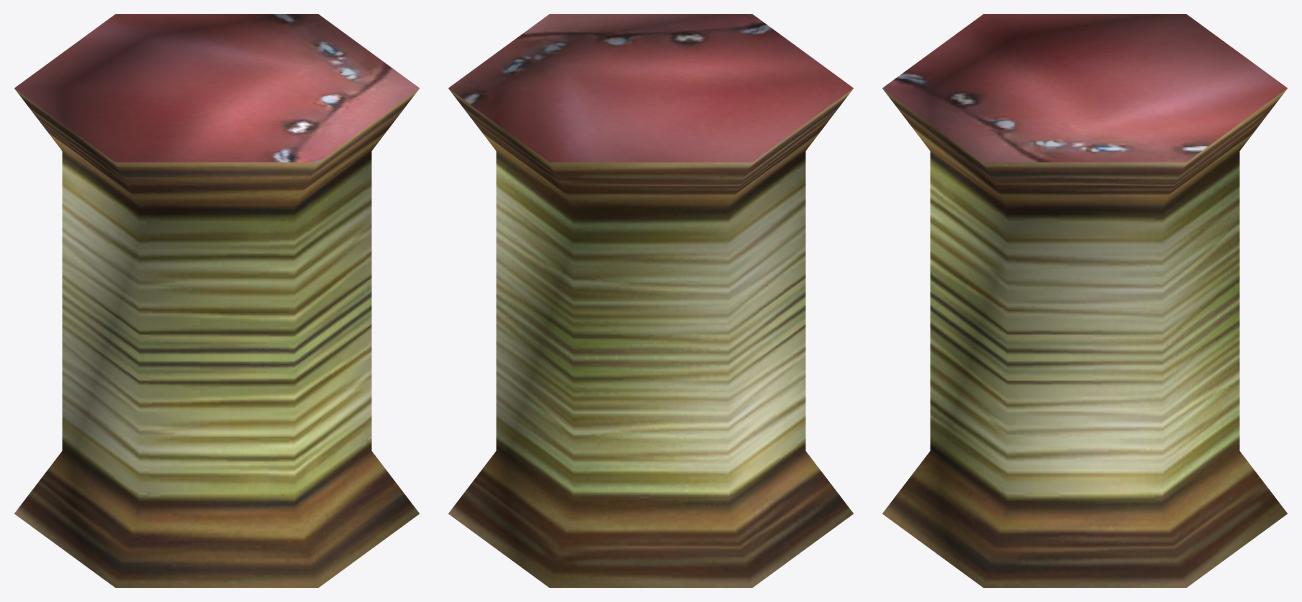
Rendered from clothspoolyellow.obj.
The picture shows the model from 3 angles, left to right: view 1: azimuth 30°, elevation 25°; view 2: azimuth 150°, elevation 25°; view 3: azimuth 270°, elevation 25°; orthographic projection.
Parts seen in each view (by area): view 1: clothspoolyellow; view 2: clothspoolyellow; view 3: clothspoolyellow.
Part boxes in pixels (left/top/right/bottom): clothspoolyellow: left=14, top=14, right=419, bottom=587; clothspoolyellow: left=448, top=14, right=853, bottom=587; clothspoolyellow: left=882, top=14, right=1287, bottom=587.
Size of the model in its own units: 0.1862 by 0.2489 by 0.215.
Materials: 1 (1 with a texture image).
